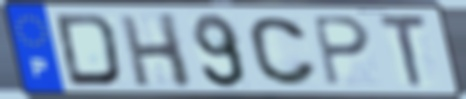9: (191, 11, 251, 91)
C: (246, 15, 320, 88)
D: (53, 11, 125, 89)
H: (116, 11, 196, 90)
P: (309, 14, 374, 89)
T: (376, 13, 430, 91)
